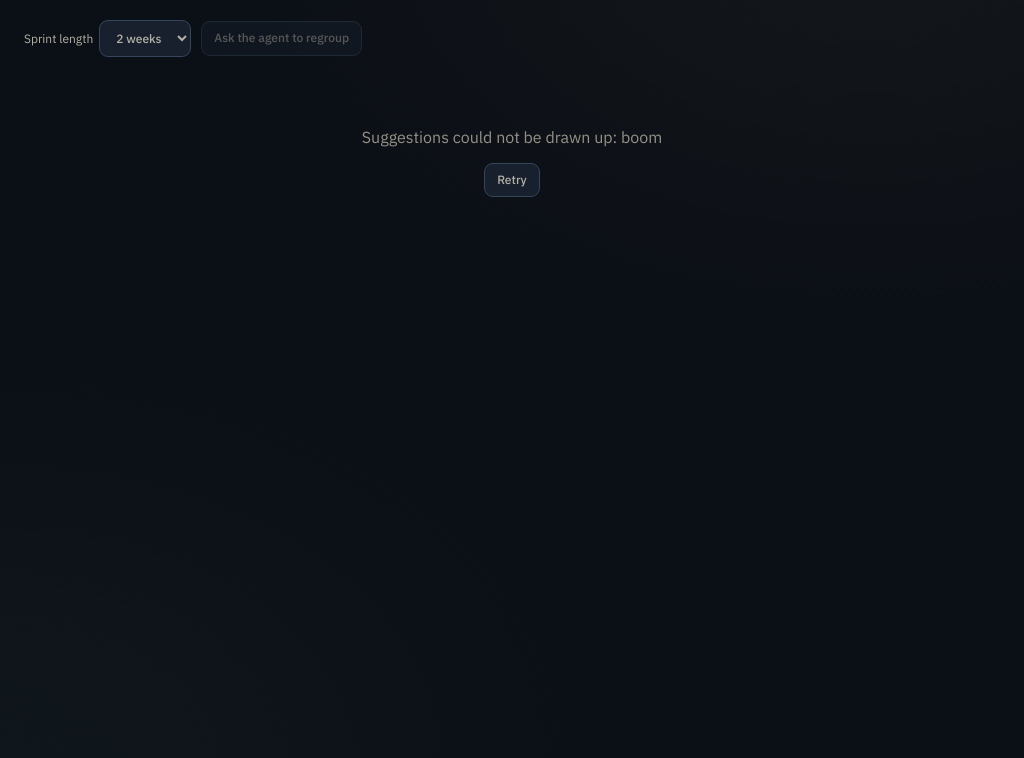
Scenario: a failed draft offers a retry
Expected: the message shows "boom", [621,127,662,147]
Click the button "Retry": (512, 180) [484,163,540,197]
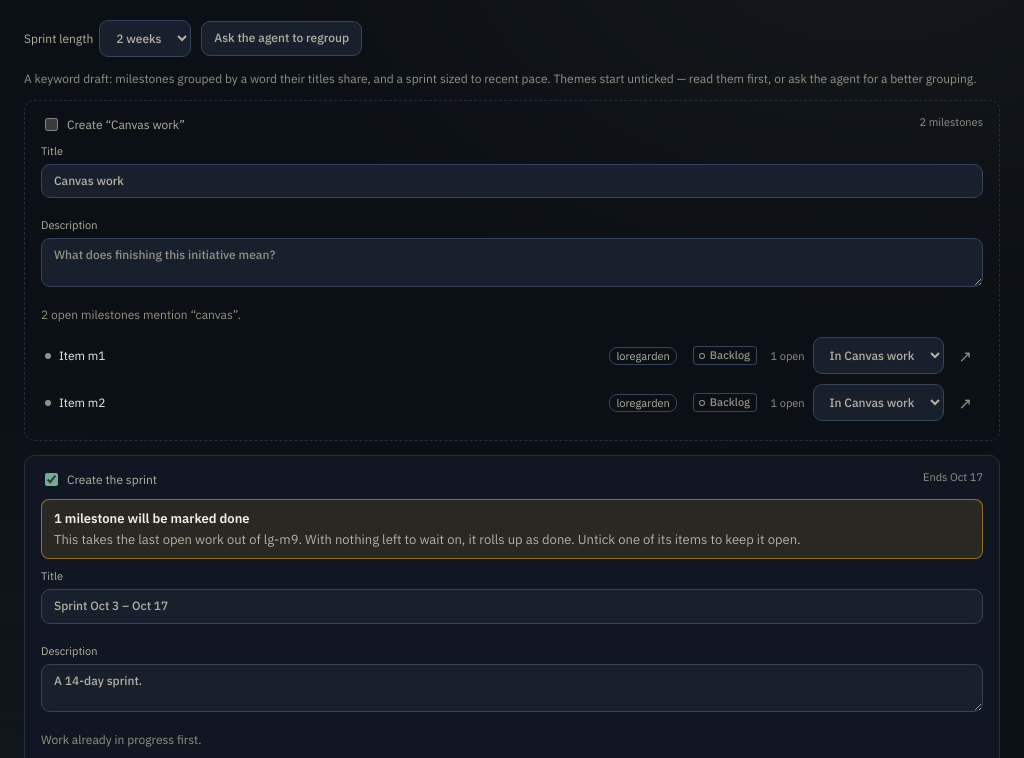
Expected: the field showing "Canvas work" below "Create “" is shown, [41,164,983,198]
